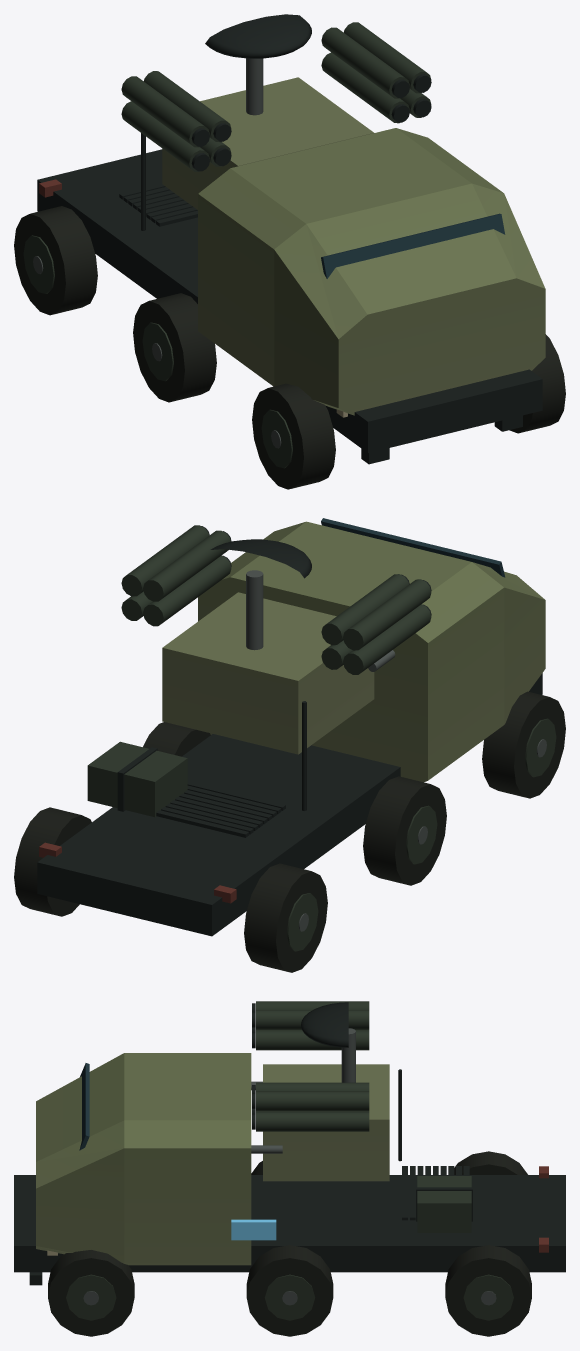
File: spaa-lod.glb
3 views of the same model, one above another, from view 1: azimuth 30°, elevation 25°; view 2: azimuth 150°, elevation 25°; view 3: azimuth 270°, elevation 25° (orthographic). The views are drawn at different scales.
Parts seen in each view (by area): view 1: equipment (×4); view 2: equipment (×4); view 3: equipment (×4), marking.
Part boxes in pixels (x1,y1,x2,y2): equipment (×4): [14, 14, 565, 489]; equipment (×4): [14, 518, 565, 972]; equipment (×4): [14, 1001, 565, 1336]; marking: [231, 1219, 276, 1240].
Size of the model in its own units: 2.84 by 3.27 by 6.1.
